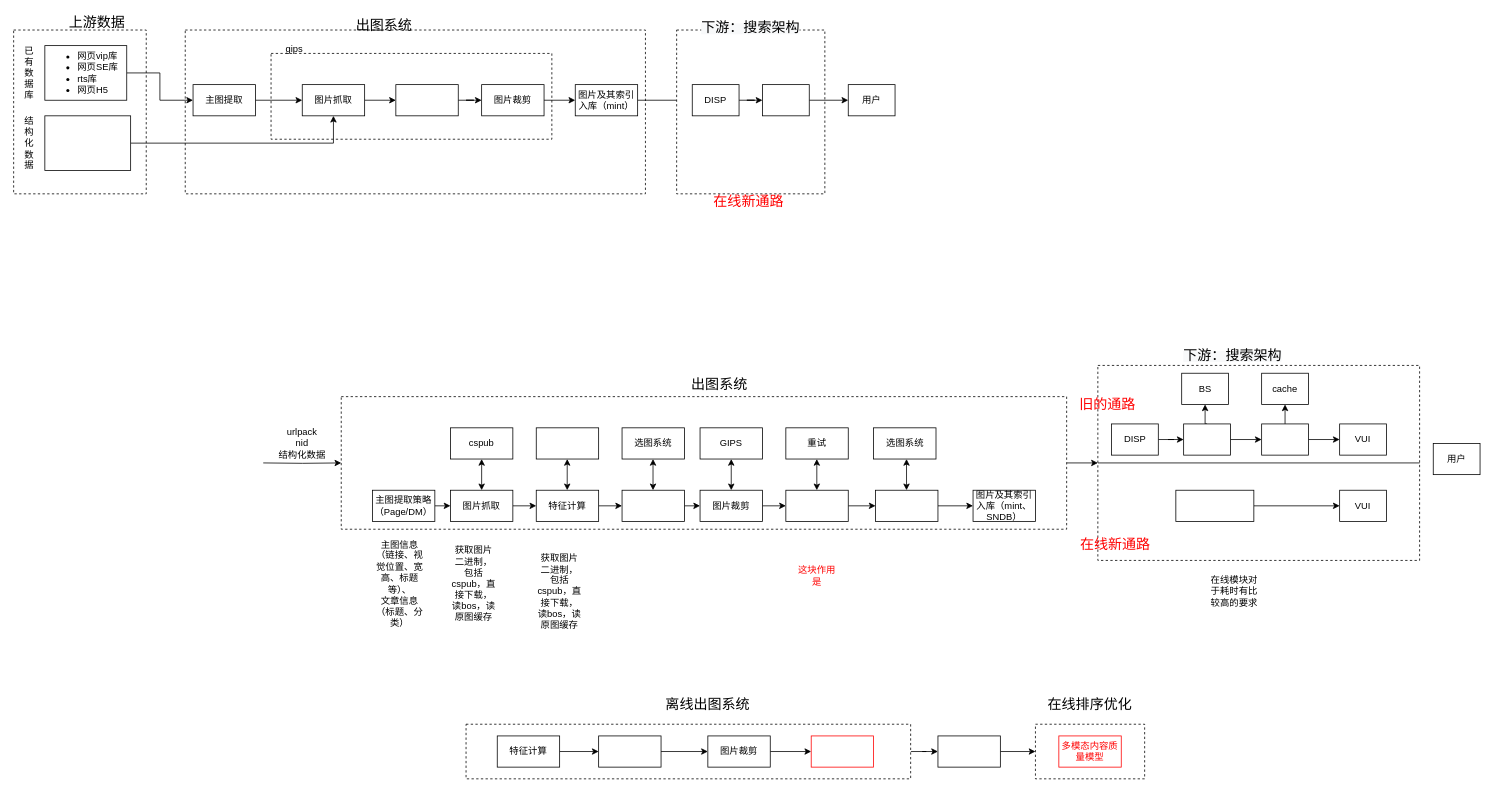
The diagram is 1494 pixels wide and 792 high, and some of its shapes have lost their labels. Each missing label, with the centre of its shape:
AC: pixel 1206 439
AC/US: pixel 785 100
US: pixel 1284 439
低质过滤: pixel 629 751
出图在线策略: pixel 1214 505
千仞: pixel 567 443
图片和/特征（mint、sndb）: pixel 968 751
图片汇聚: pixel 816 505
特征计算及质量过滤: pixel 426 100
百家号 文库、百科等自有产品: pixel 87 142
选图优化: pixel 842 751
选图（优选）: pixel 906 505
选图（过滤）: pixel 652 505
